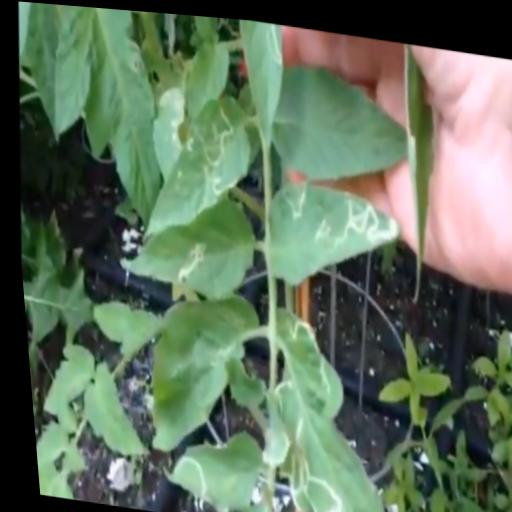Leaf_Miner: (252, 296, 403, 512), (124, 76, 259, 253), (256, 167, 404, 297), (106, 177, 256, 303), (149, 416, 262, 512)
